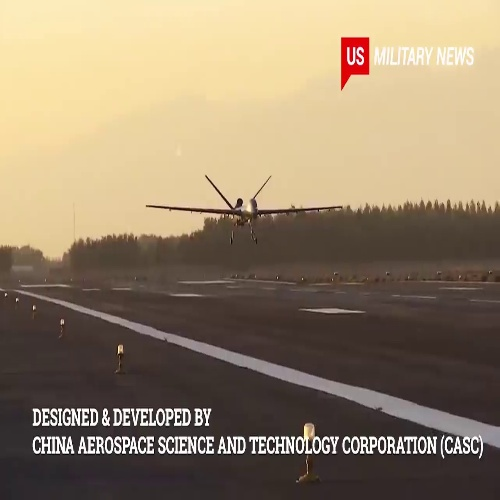uav44: (143, 172, 343, 244)
